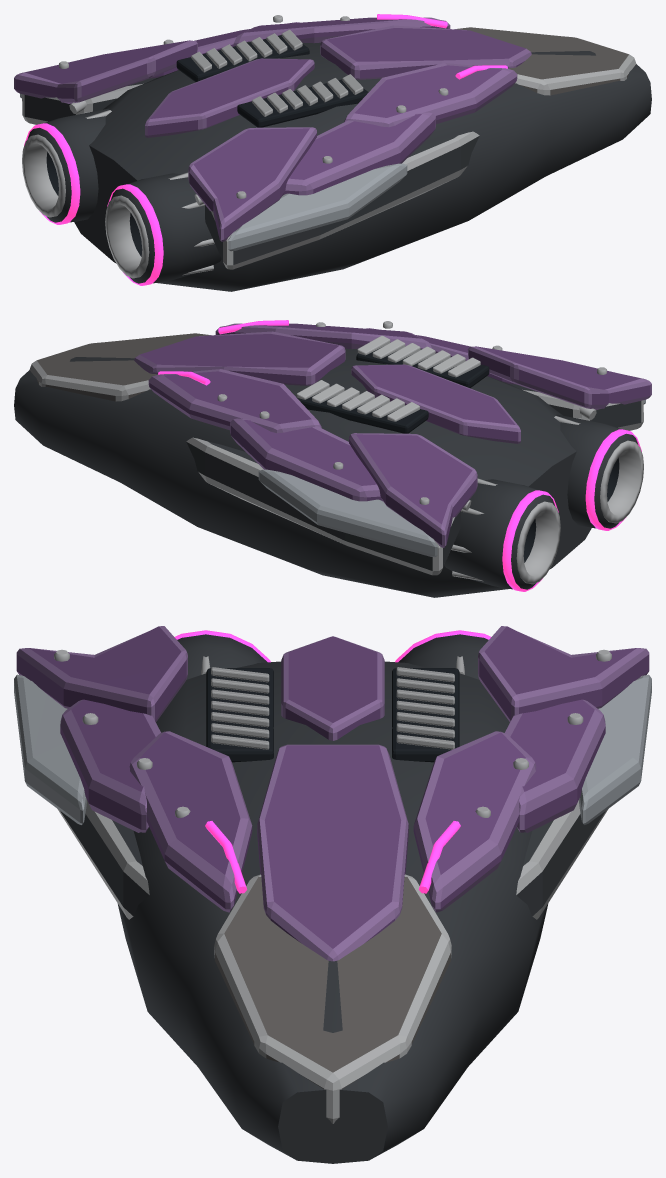
The model's file is Heavy.glb.
The picture shows the model from 3 angles, top to bottom: view 1: azimuth 30°, elevation 25°; view 2: azimuth 150°, elevation 25°; view 3: azimuth 270°, elevation 25°; orthographic projection. The views are drawn at different scales.
Visible parts, largest first — view 1: Heavy_Shell; view 2: Heavy_Shell; view 3: Heavy_Shell.
Boxes of the visible parts, x1=… form: Heavy_Shell: x1=14, y1=14, x2=651, y2=291; Heavy_Shell: x1=14, y1=320, x2=651, y2=597; Heavy_Shell: x1=14, y1=626, x2=651, y2=1163.
Size of the model in its own units: 2.83 by 0.8791 by 1.86.
